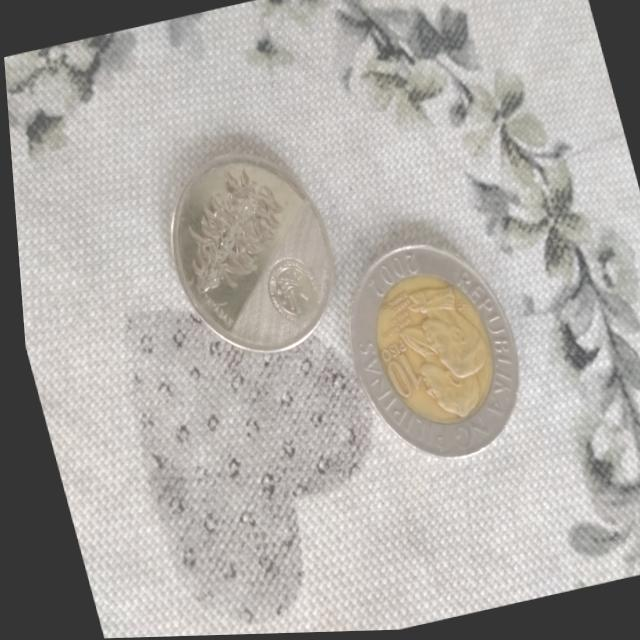10_Old_Front: (361, 323, 428, 413)
5_New_Back: (149, 147, 298, 305)
